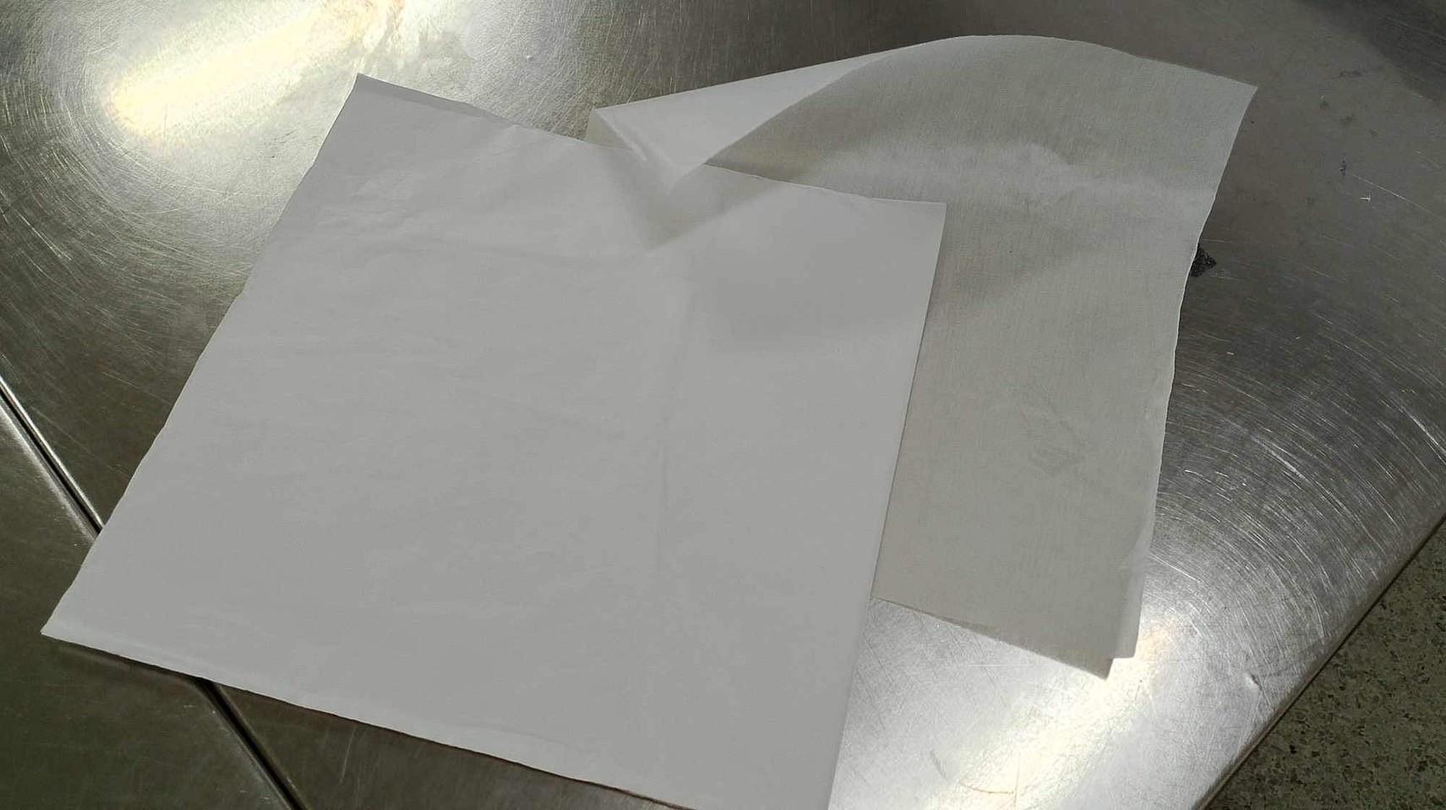Infectious: (38, 69, 950, 807), (586, 31, 1260, 676)
Sharps: (0, 373, 108, 538)
